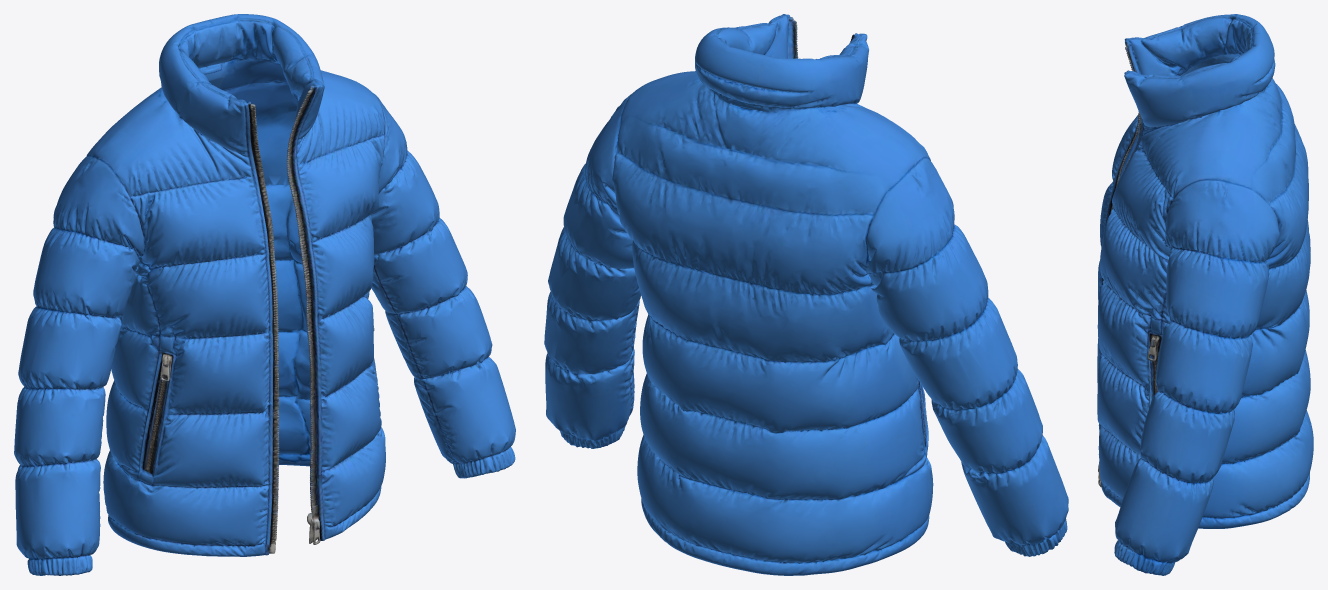
Rendered from blue.glb.
3 views of the same model, side by side, from view 1: azimuth 30°, elevation 25°; view 2: azimuth 150°, elevation 25°; view 3: azimuth 270°, elevation 25° (orthographic). The views are drawn at different scales.
Visible parts, largest first — view 1: mesh_node; view 2: mesh_node; view 3: mesh_node.
Part boxes in pixels (bbox=[...]): mesh_node: bbox=[14, 14, 515, 575]; mesh_node: bbox=[544, 14, 1068, 575]; mesh_node: bbox=[1097, 14, 1313, 575].
Size of the model in its own units: 1.9 by 1.77 by 0.7777.
Materials: 1 (1 with a texture image).
